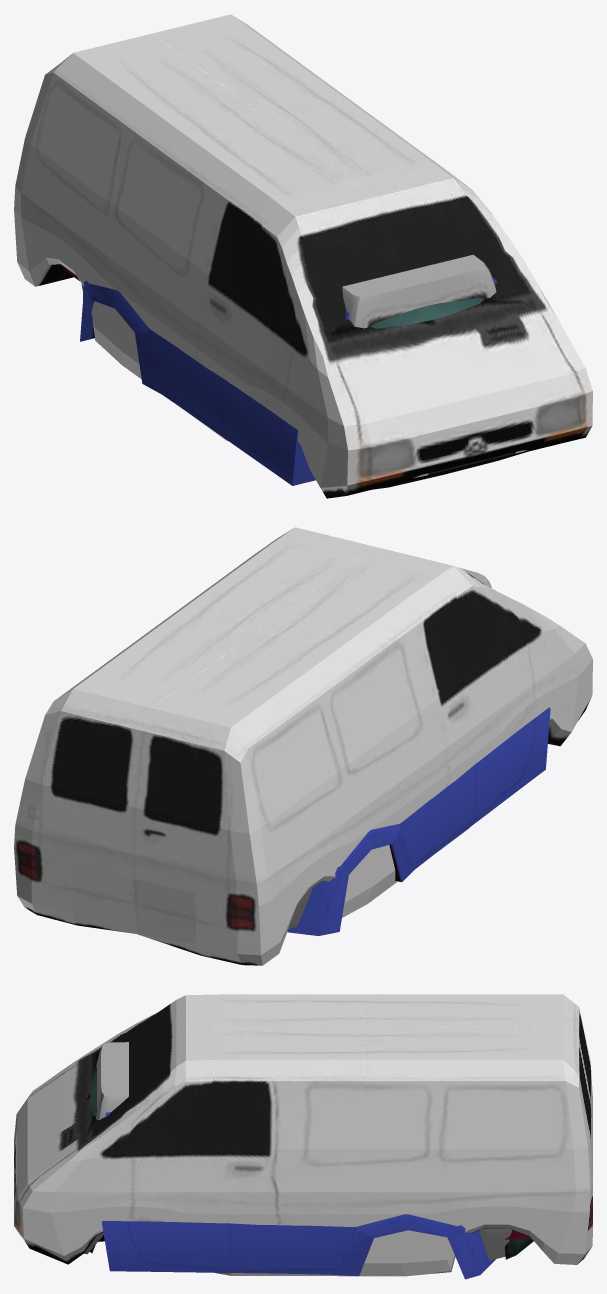
Rendered from city-cars.optimized.glb.
The picture shows the model from 3 angles, top to bottom: view 1: azimuth 30°, elevation 25°; view 2: azimuth 150°, elevation 25°; view 3: azimuth 270°, elevation 25°; orthographic projection. The views are drawn at different scales.
Visible parts, largest first — view 1: car_12, car_27, car_07, car_02; view 2: car_12, car_27; view 3: car_12, car_27, car_07, car_00, car_02.
Part boxes in pixels (<box>): car_12: <box>14,14,592,498</box>; car_27: <box>80,277,497,485</box>; car_07: <box>342,254,496,328</box>; car_02: <box>81,284,496,328</box>; car_12: <box>14,527,592,965</box>; car_27: <box>287,707,550,935</box>; car_12: <box>14,994,592,1276</box>; car_27: <box>102,1112,495,1279</box>; car_07: <box>96,1042,128,1120</box>; car_00: <box>84,1228,511,1260</box>; car_02: <box>90,1070,533,1259</box>.
Bounding box in the file's own units: 1.87 × 1.62 × 4.26.
39 materials, 39 textured.
